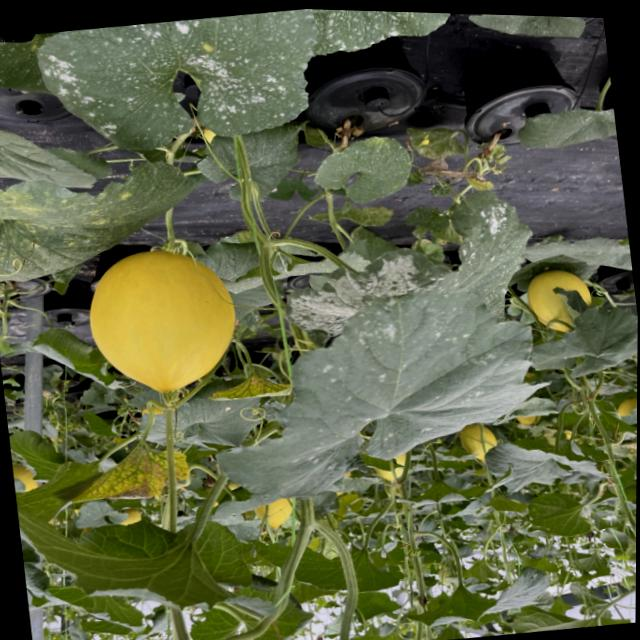alternaria leaf blight: (64, 428, 196, 516), (205, 369, 294, 407)
downy mildew: (0, 147, 215, 290), (399, 558, 558, 640), (509, 97, 618, 158)
healthy: (12, 442, 280, 640), (521, 299, 638, 385)
powdery mildew: (173, 164, 590, 531), (33, 1, 328, 167), (307, 129, 420, 212), (303, 9, 478, 62), (463, 14, 591, 53)
